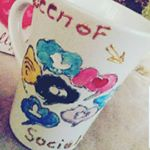cups: (4, 1, 149, 150)
